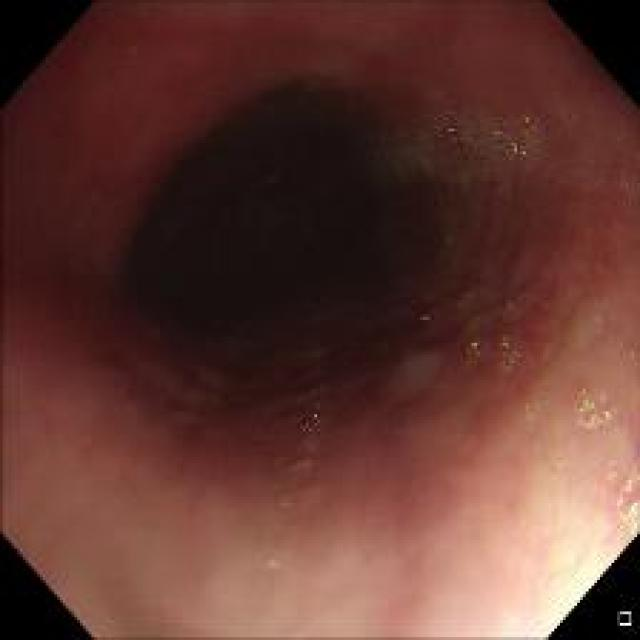bubbles: (374, 104, 595, 198), (271, 379, 334, 528), (459, 325, 530, 371), (600, 451, 635, 544), (570, 384, 619, 430)
color misalignment: (578, 392, 609, 425), (499, 139, 538, 159), (419, 309, 444, 325), (465, 340, 482, 362), (442, 124, 455, 136)
contrast: (115, 75, 462, 392)
saturation: (470, 500, 631, 638)
